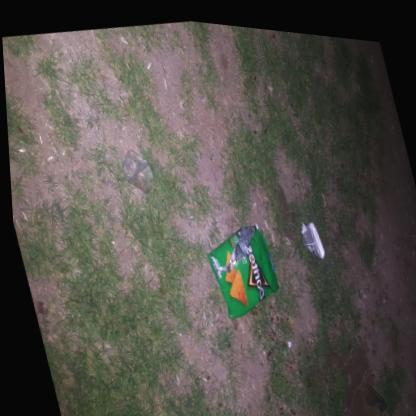Paper: (297, 214, 320, 251)
Plastic: (203, 216, 274, 313), (119, 146, 151, 190)
